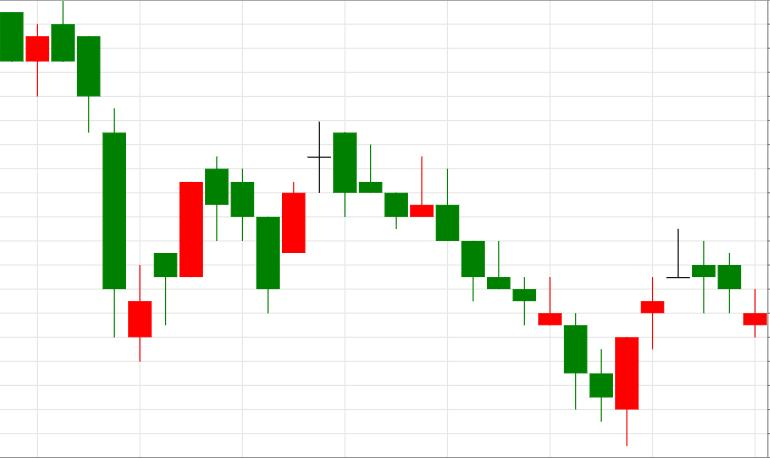bullish_engulfing_rise: (334, 132, 640, 447)
